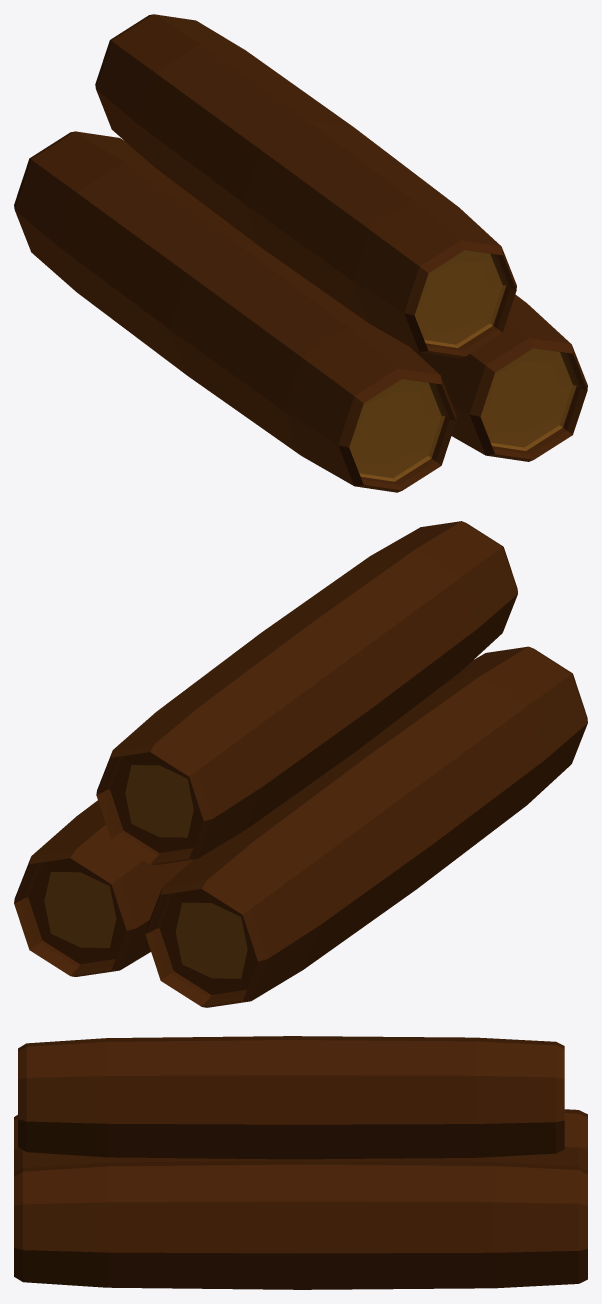
The model's file is Logslong.fbx.
The picture shows the model from 3 angles, top to bottom: view 1: azimuth 30°, elevation 25°; view 2: azimuth 150°, elevation 25°; view 3: azimuth 270°, elevation 25°; orthographic projection. The views are drawn at different scales.
Parts seen in each view (by area): view 1: Cube.022; view 2: Cube.022; view 3: Cube.022.
Boxes of the visible parts, left/top/right/bottom form: Cube.022: left=14, top=14, right=587, bottom=492; Cube.022: left=14, top=521, right=587, bottom=1007; Cube.022: left=14, top=1036, right=587, bottom=1289.
Size of the model in its own units: 97.47 by 88.54 by 211.
